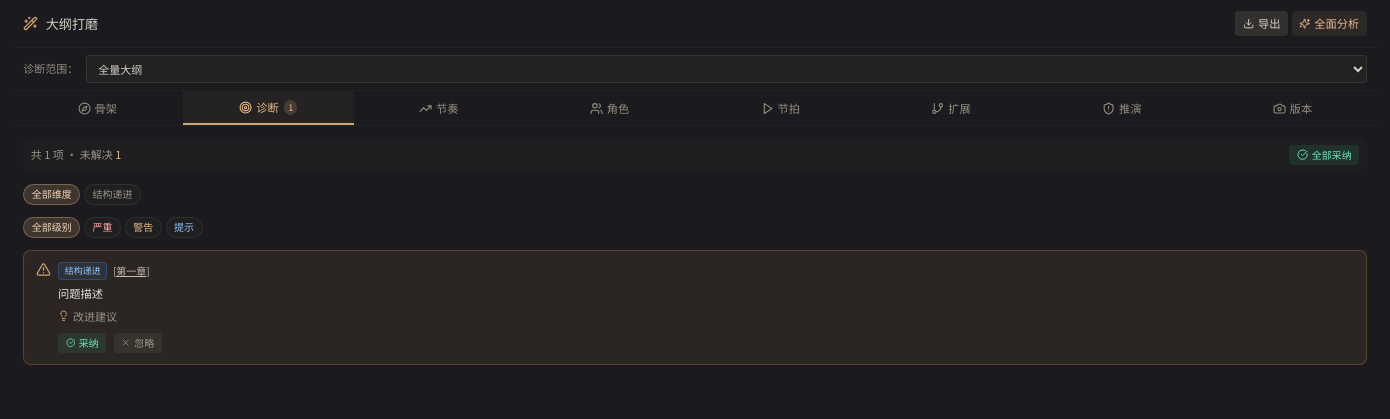
Test: OutlinePolishPanel › 点击角色卡片展开显示弧光缺口 + 出场章节
What coordinates should you click on to do the following:
click the button "角色"
I would click on:
 (610, 108)
Its box is [524, 91, 695, 125].
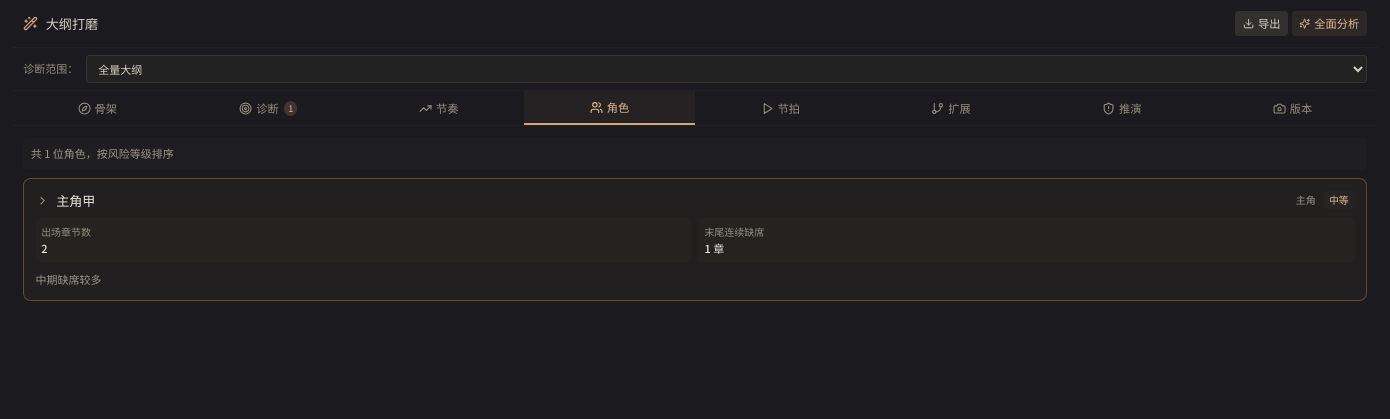
Expected: the text "弧光缺口" is not shown
What coordinates should you click on to do the following:
click the text "主角甲"
I would click on:
 (76, 200)
Its box is [56, 191, 95, 210].
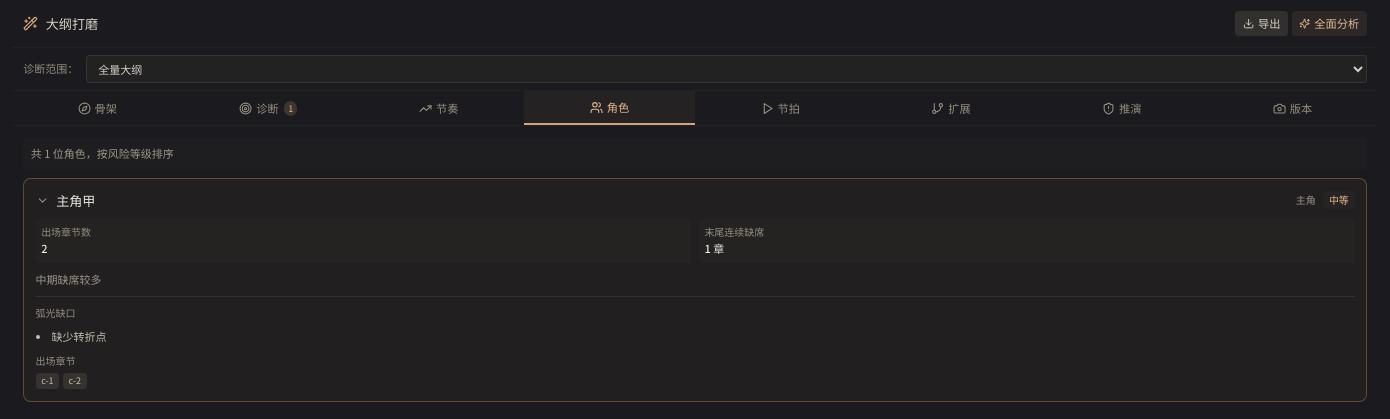
Now the text "弧光缺口" is shown, box [36, 305, 76, 320]
Now the list item "缺少转折点" is shown, box [52, 328, 106, 344]
Now the text "出场章节" is shown, box [36, 353, 76, 368]
